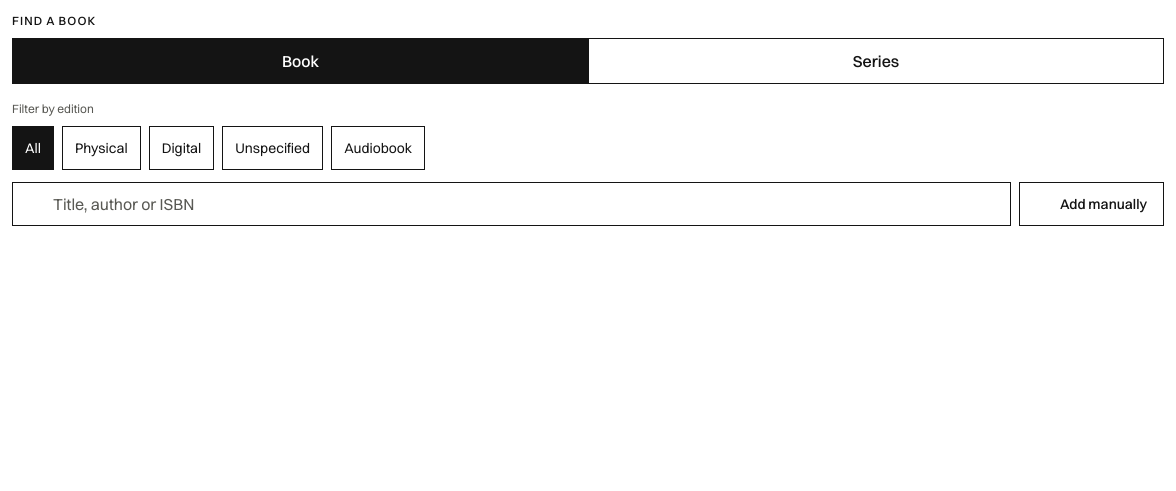
Test: drops a queued preview choice when the edition filter changes
Type "dune" into the search field named "Search books" at (511, 204), box left=12, top=182, right=1011, bottom=226
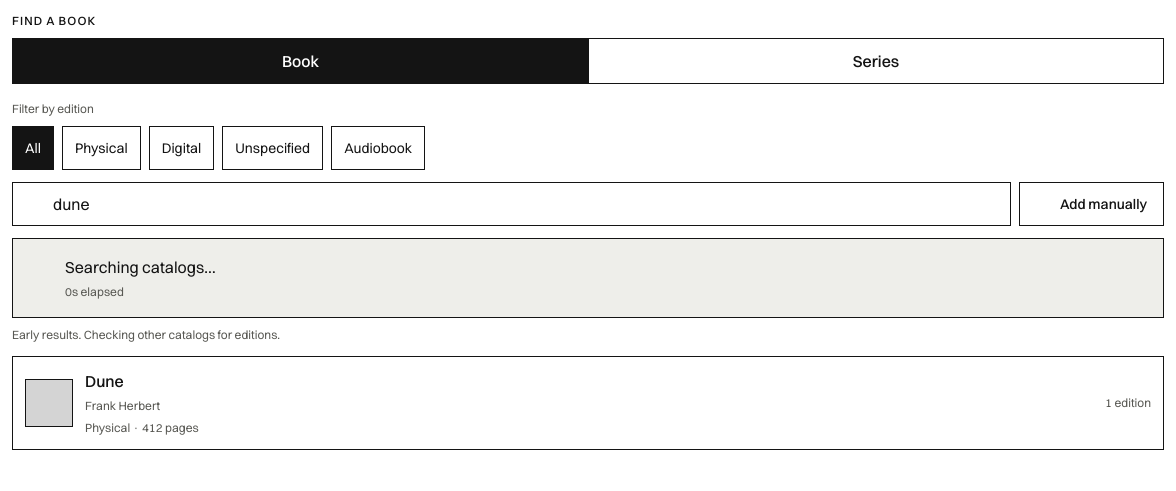
Click the button "Dune Frank Herbert Physical · 412 pages 1 edition" at (49, 403), box left=13, top=357, right=1163, bottom=449
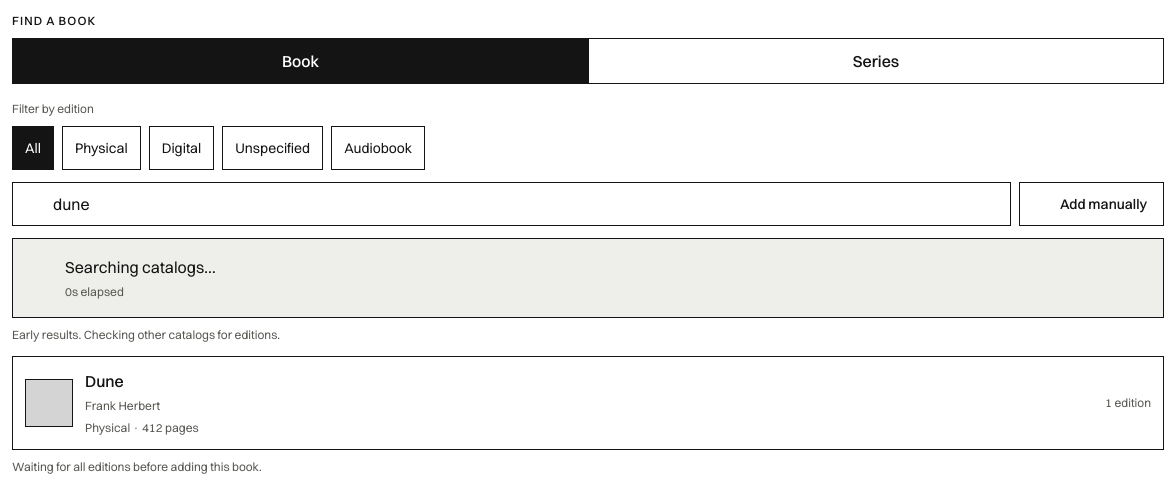
Click the button "Physical" at (101, 148), box left=62, top=126, right=141, bottom=170
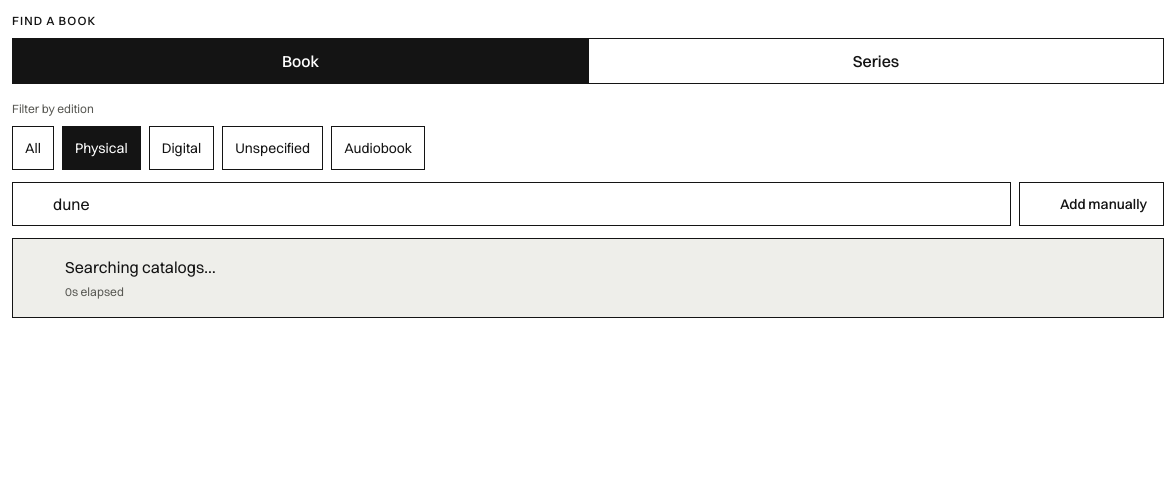
Check: the text "Waiting for all editions" is gone
